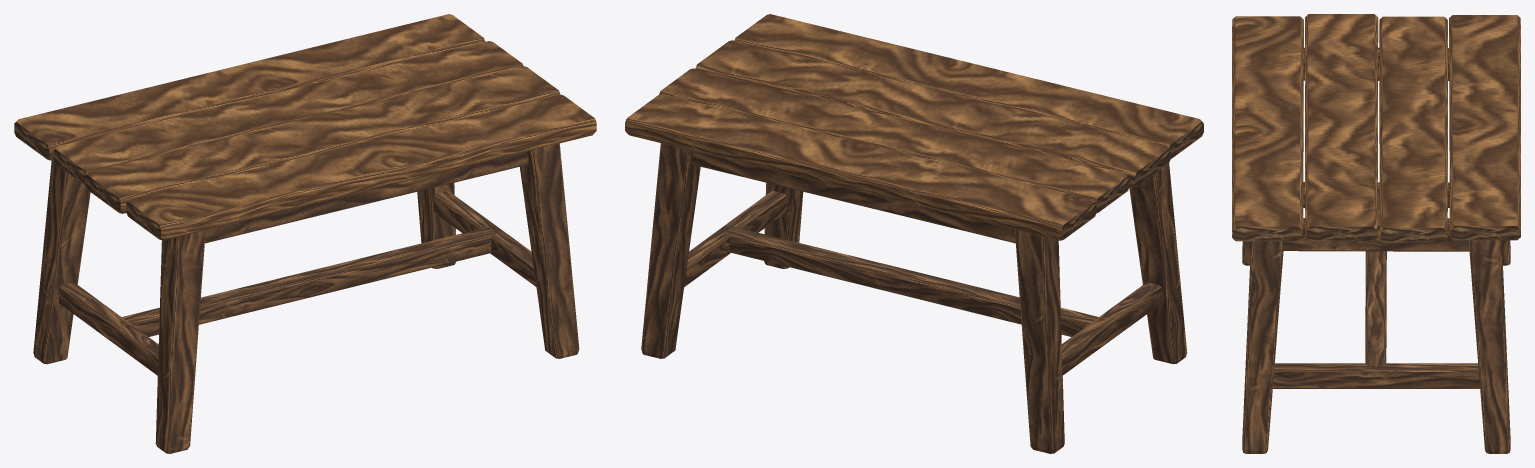
Rendered from Mesa.glb.
3 views of the same model, side by side, from view 1: azimuth 30°, elevation 25°; view 2: azimuth 150°, elevation 25°; view 3: azimuth 270°, elevation 25° (orthographic).
Parts seen in each view (by area): view 1: Tábuas do tampo, Pés, Travessas inferiores, Travessas sob o tampo; view 2: Tábuas do tampo, Pés, Travessas inferiores, Travessas sob o tampo; view 3: Tábuas do tampo, Pés, Travessas inferiores, Travessas sob o tampo.
Part boxes in pixels (bbox=[...]): Tábuas do tampo: bbox=[14, 14, 596, 240]; Pés: bbox=[33, 143, 579, 453]; Travessas inferiores: bbox=[59, 191, 536, 375]; Travessas sob o tampo: bbox=[205, 151, 528, 243]; Tábuas do tampo: bbox=[625, 14, 1203, 240]; Pés: bbox=[641, 143, 1187, 453]; Travessas inferiores: bbox=[684, 190, 1161, 375]; Travessas sob o tampo: bbox=[692, 151, 1015, 243]; Tábuas do tampo: bbox=[1232, 14, 1520, 242]; Pés: bbox=[1242, 240, 1510, 453]; Travessas inferiores: bbox=[1273, 182, 1479, 388]; Travessas sob o tampo: bbox=[1283, 47, 1469, 251].
Bounding box in the file's own units: 1.48 × 0.7615 × 0.849.
3 materials, 3 textured.
